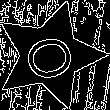O_E: (17, 27, 82, 84)
